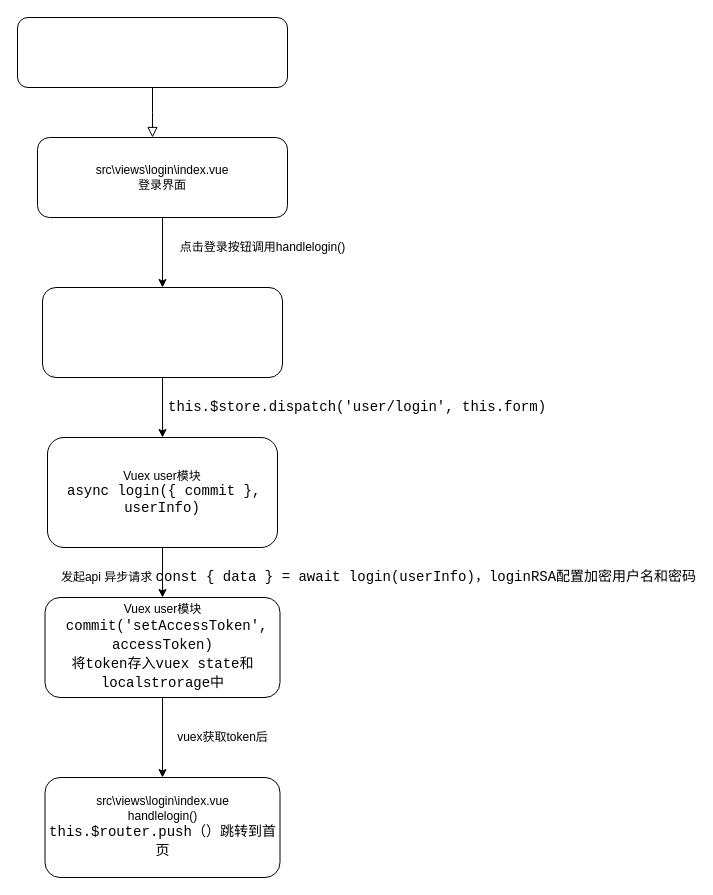
Some shapes in this 713 by 895 pixel diagram are drawn without their labels. The box of each missing label's shape, as (x1, y1, x2, y2) in pixels:
src\views\login\index.vue handlelogin(): (42, 286, 282, 378)
Vuex State：{如果localstrograge存在token则获取accesstoken}: (16, 16, 288, 88)
